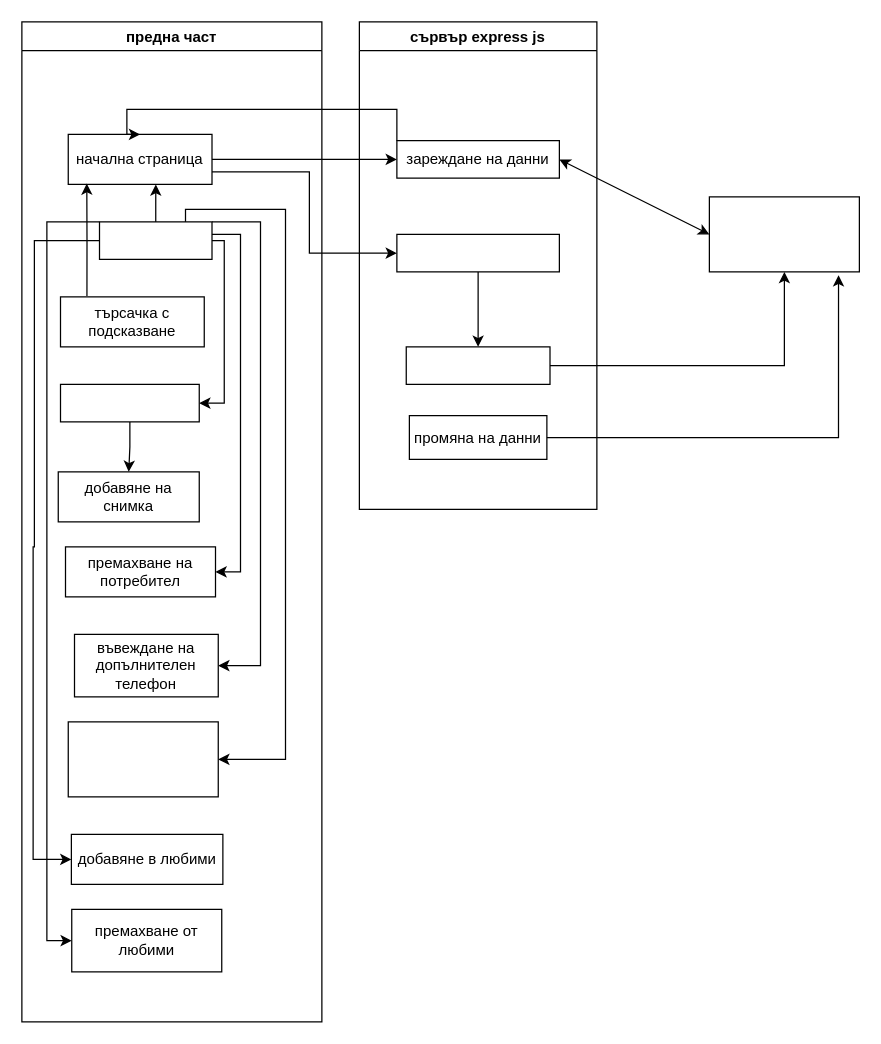
This 881x1044 diagram has some shape labels left out. The centre of each missing label's shape, as x and y in pixels:
база данни/ монгоДБ: [783,234]
валидиране на данни: [477,252]
запазване на данни: [477,365]
премахване на допълнителен телефон: [142,759]
събития с мишка: [155,240]
създаване на нов потребител: [129,402]
